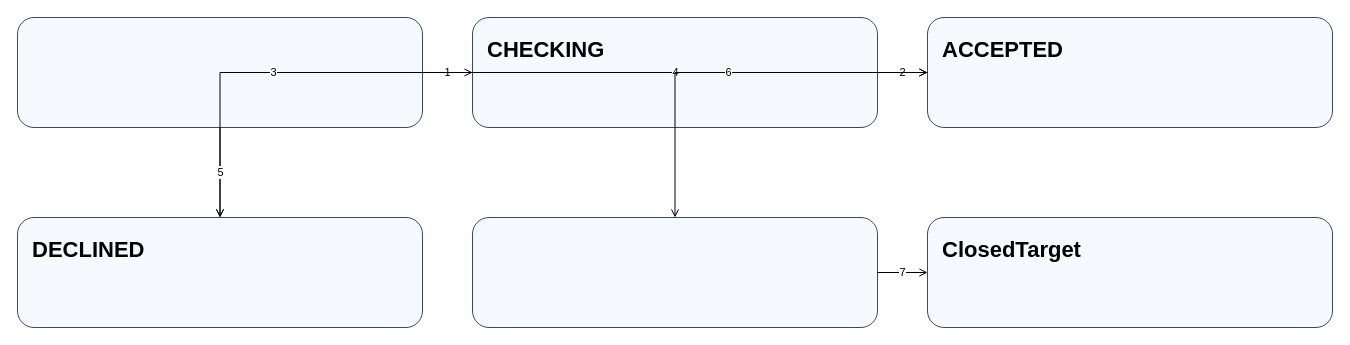
This 1350x345 diagram has some shape labels left out. The shapes that lost their labels are listed below. From the top down, each one's box as (x1, y1, x2, y2) in pixels, then its label:
(16, 16, 422, 128): PENDING
(472, 216, 878, 328): AppealedTarget
